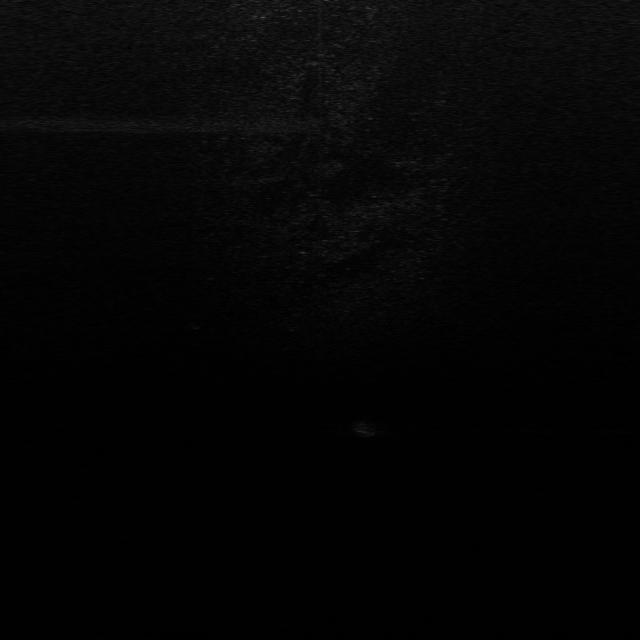ball: (352, 416, 381, 438)
circle cage: (182, 311, 209, 331)
